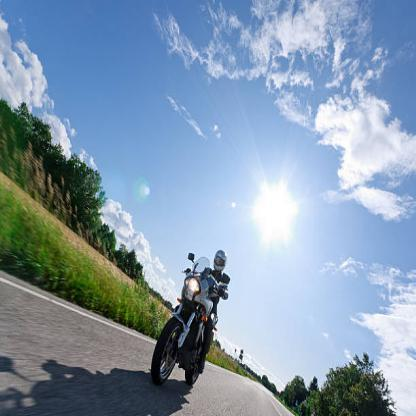Motorcycle: (150, 252, 226, 393)
